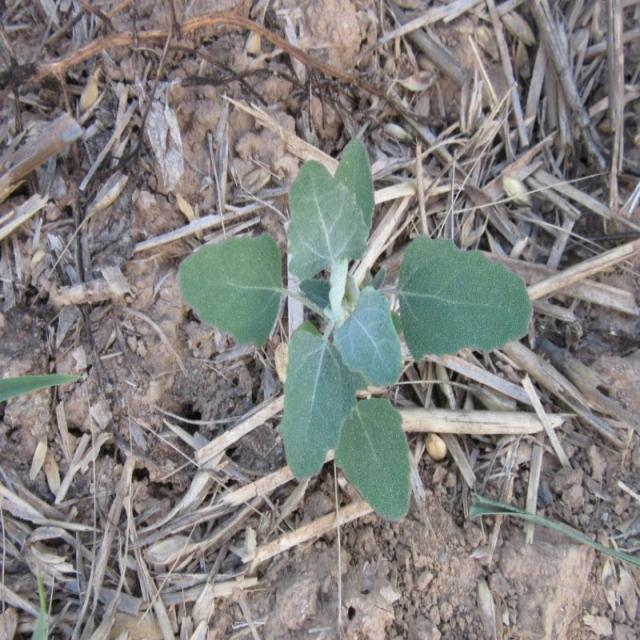ca: (178, 141, 533, 528)
